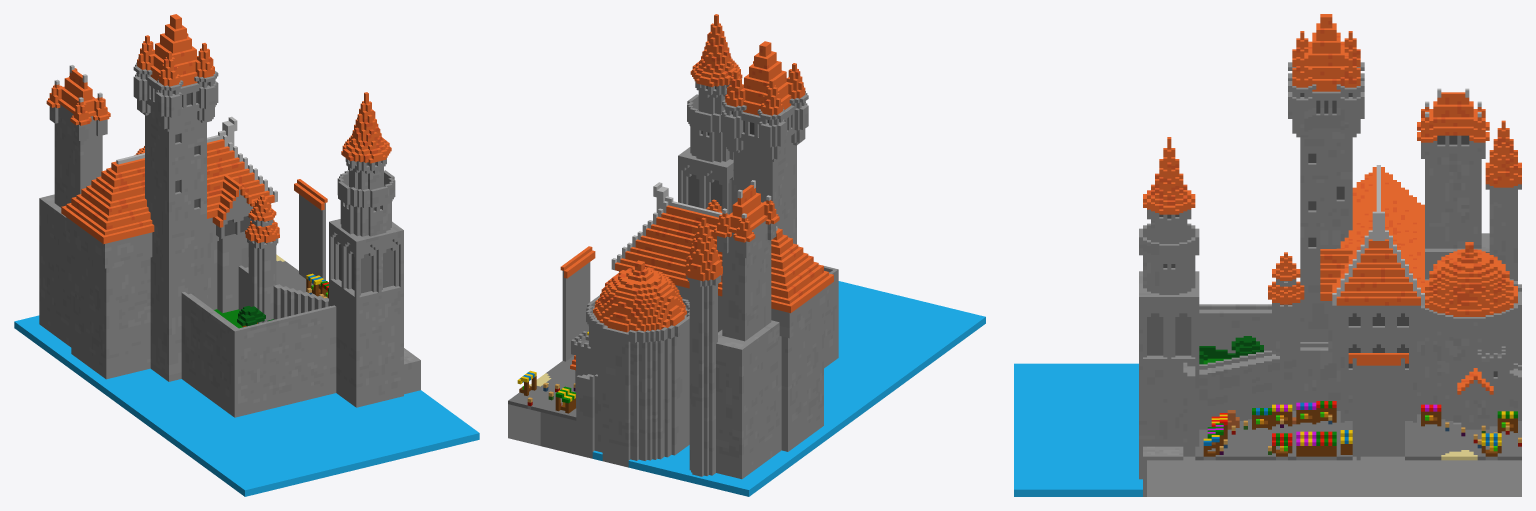
The model's file is castle-4.obj.
The picture shows the model from 3 angles, left to right: view 1: azimuth 30°, elevation 25°; view 2: azimuth 150°, elevation 25°; view 3: azimuth 270°, elevation 25°; orthographic projection. The views are drawn at different scales.
Bounding box in the file's own units: 7.4 × 10.8 × 12.6.
1 material, 1 textured.
